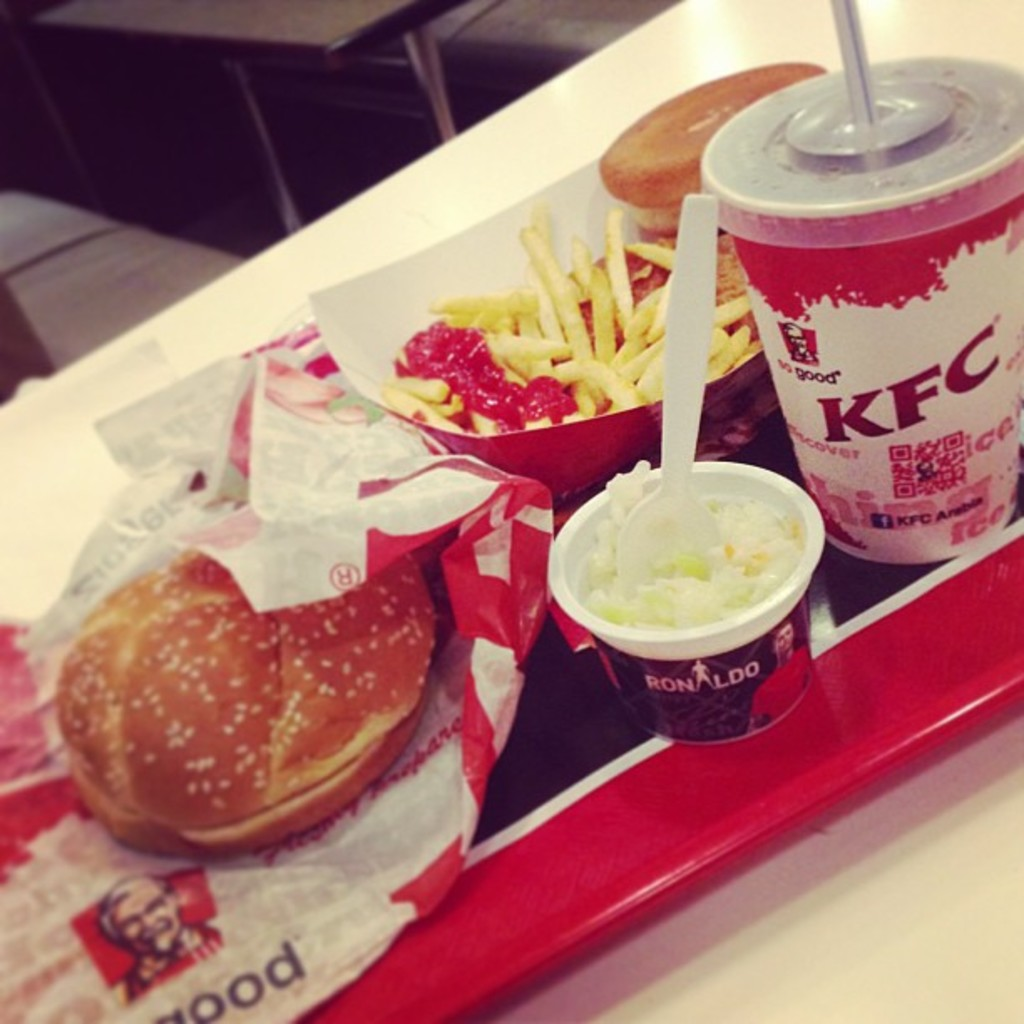French fries: (450, 225, 756, 426)
